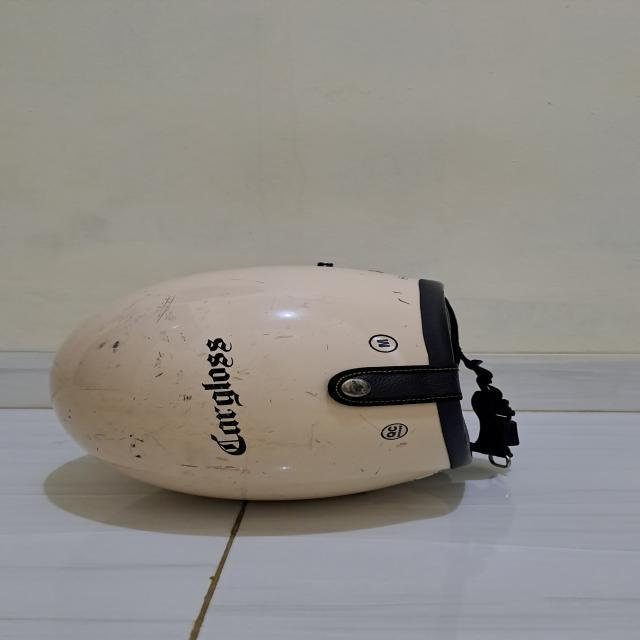Helm: (46, 250, 541, 508)
